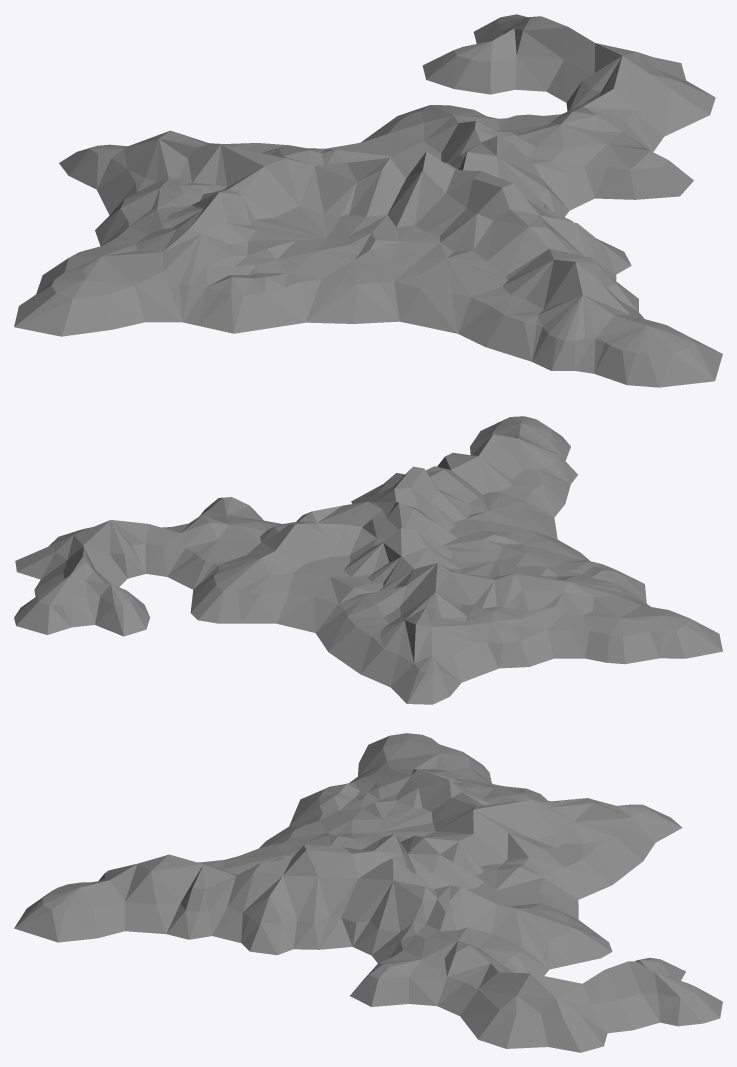
The model's file is Prospect_01.fbx.
The picture shows the model from 3 angles, top to bottom: view 1: azimuth 30°, elevation 25°; view 2: azimuth 150°, elevation 25°; view 3: azimuth 270°, elevation 25°; orthographic projection. The views are drawn at different scales.
Visible parts, largest first — view 1: Prospect_01; view 2: Prospect_01; view 3: Prospect_01.
Boxes of the visible parts, x1,y1,x2,y2 form: Prospect_01: (14, 14, 722, 387); Prospect_01: (14, 416, 722, 704); Prospect_01: (14, 733, 722, 1052).
Bounding box in the file's own units: 28673 × 2874 × 26948.
